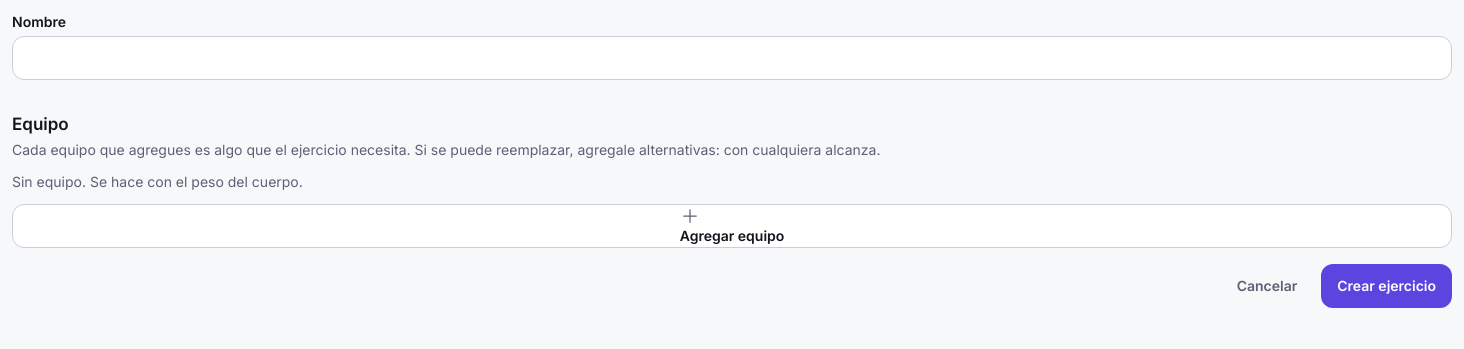
ExerciseForm › si el backend responde NAME_TAKEN, lo muestra como error de campo
Type "Burpees" into the field labelled "Nombre".
click(732, 58); type("Burpees")  # box [12, 36, 1452, 80]
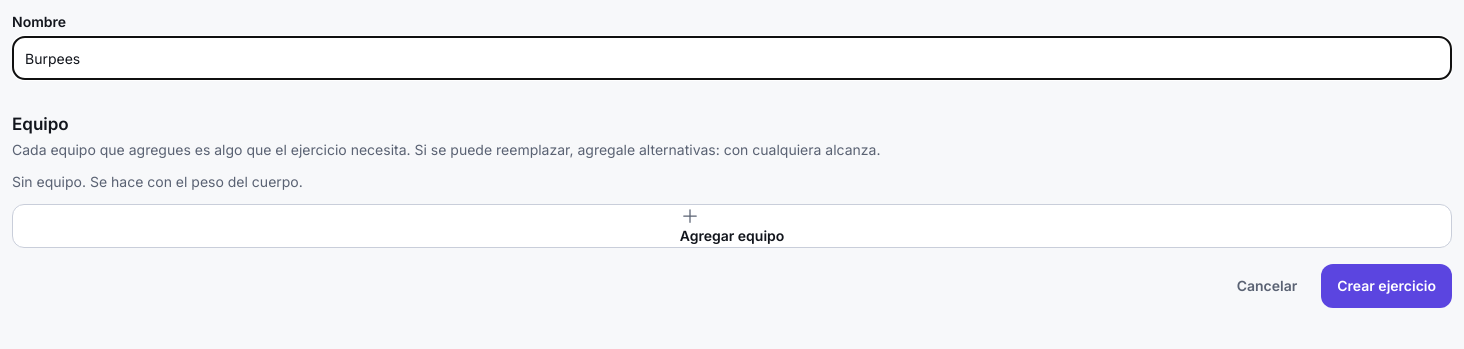
Click the button "Crear ejercicio".
click(1387, 286)  # box [1321, 264, 1452, 308]
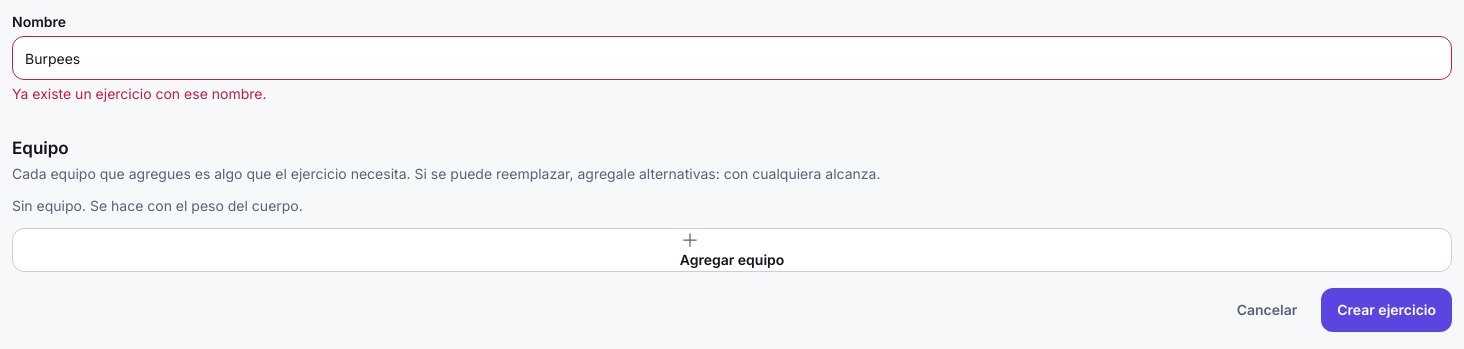
Expected: the text "Ya existe un ejercicio con ese nombre." is shown, [12, 85, 266, 102]
